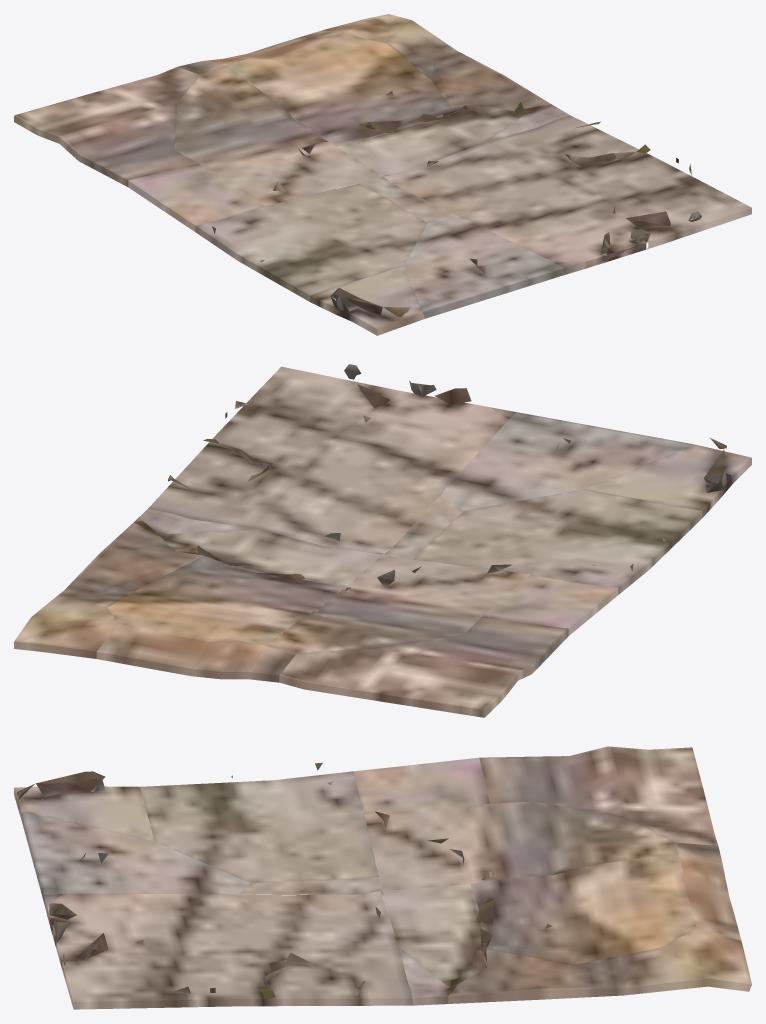
3 views of the same model, one above another, from view 1: azimuth 30°, elevation 25°; view 2: azimuth 150°, elevation 25°; view 3: azimuth 270°, elevation 25° (orthographic). The views are drawn at different scales.
Parts seen in each view (by area): view 1: Mesh_0; view 2: Mesh_0; view 3: Mesh_0.
Boxes of the visible parts, left/top/right/bottom form: Mesh_0: left=14, top=14, right=751, bottom=335; Mesh_0: left=14, top=364, right=751, bottom=717; Mesh_0: left=14, top=746, right=751, bottom=1009.
Size of the model in its own units: 533 by 37.18 by 659.
Materials: 1 (1 with a texture image).
